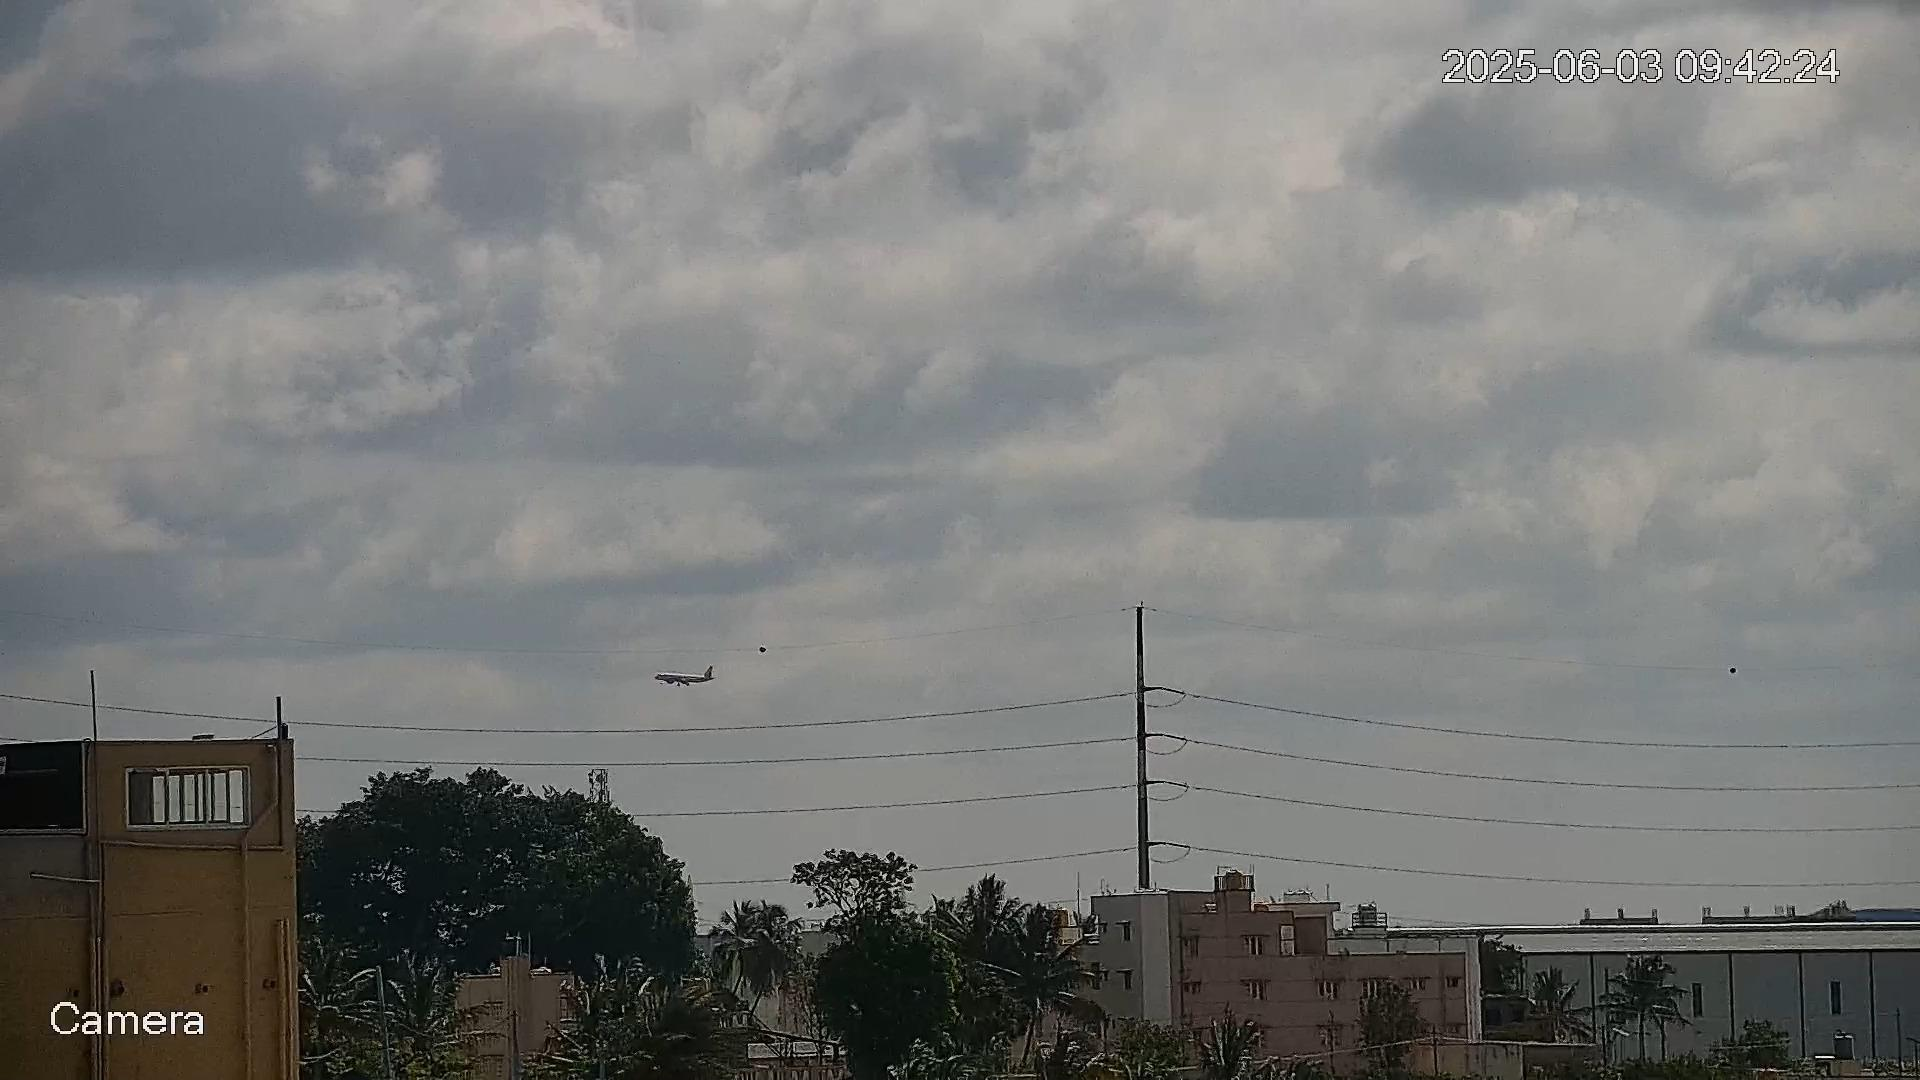Aircraft: (653, 665, 719, 688)
